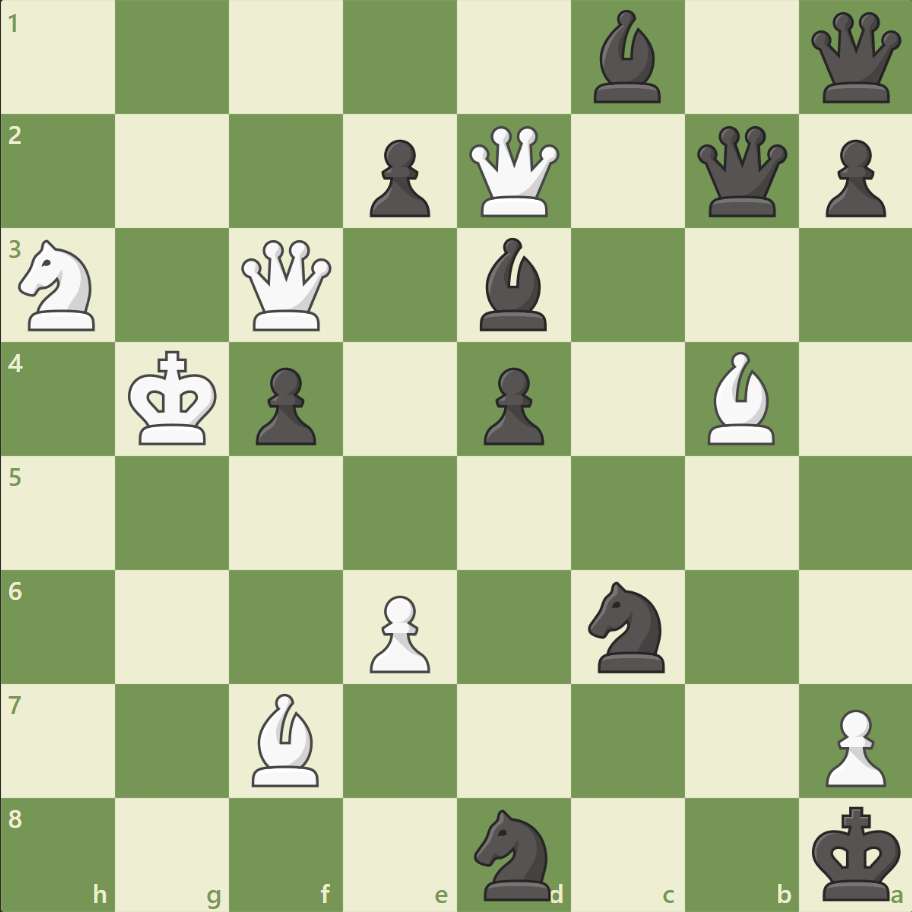B: (244, 687, 328, 790), (698, 347, 782, 449)
K: (124, 344, 224, 452)
N: (11, 234, 108, 337)
P: (815, 700, 889, 791), (361, 586, 435, 677)
Q: (464, 122, 563, 222), (237, 236, 336, 335)
b: (471, 233, 555, 336), (585, 6, 669, 109)
k: (806, 798, 906, 906)
n: (465, 802, 562, 904), (579, 575, 676, 677)
p: (474, 359, 549, 450), (247, 359, 322, 450), (815, 132, 889, 223), (361, 132, 435, 223)
q: (691, 122, 790, 222), (805, 9, 904, 108)
